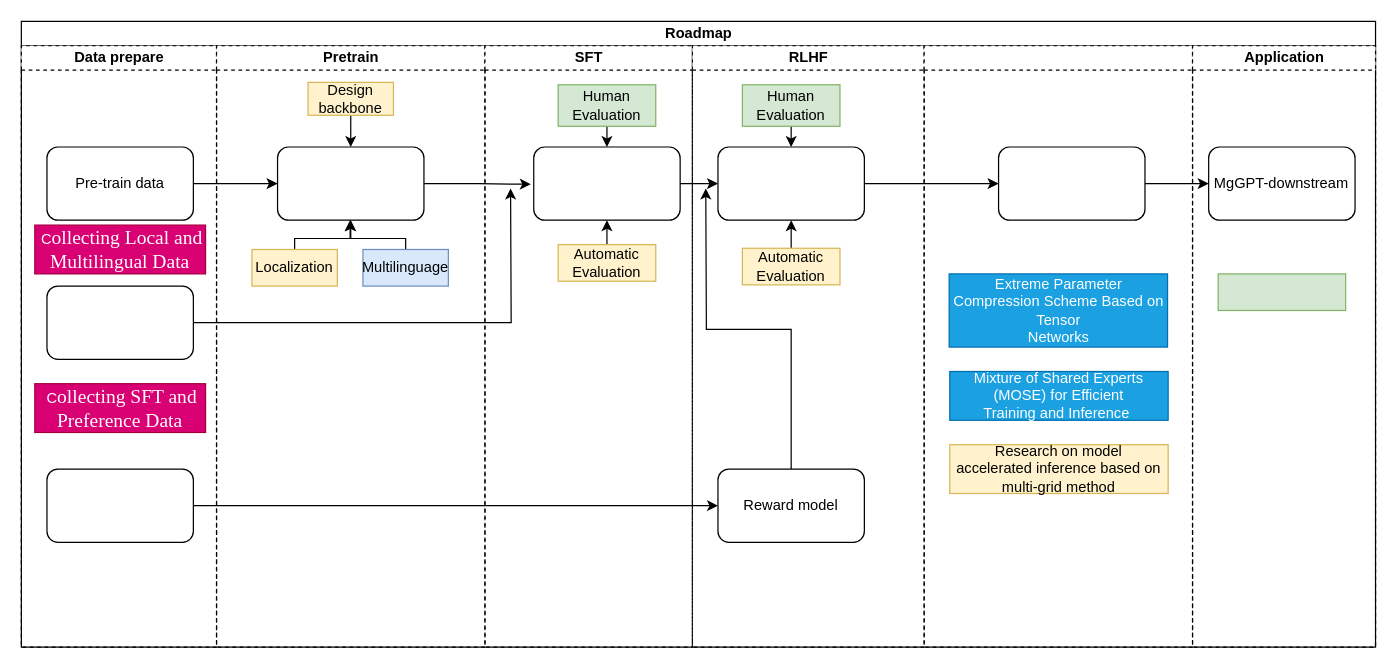
Image size: 1397x669. Some labels were removed from this diagram. Here are the shapes that lost their labels. From the top down, the box of each, then its label:
(276, 146, 424, 220): Pre-train model
(533, 146, 680, 220): SFT model
(717, 146, 864, 220): RLHF model
(997, 146, 1145, 220): MgGPT
(1217, 273, 1346, 310): Applyment
(46, 285, 193, 359): SFT data
(923, 45, 1193, 647): Acceletate
(46, 468, 193, 542): Preference Data
